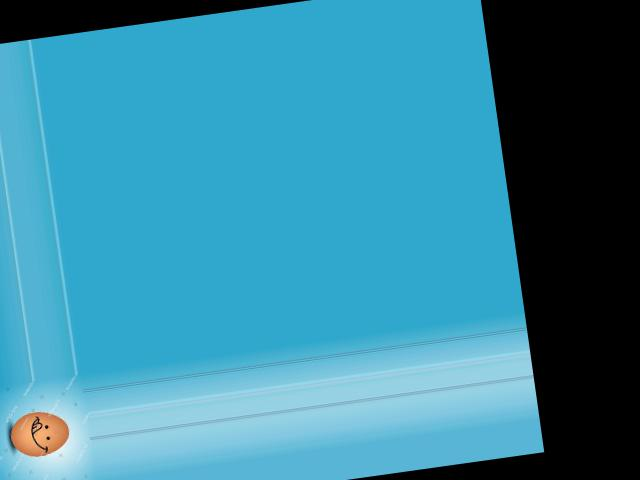egg: (8, 407, 71, 459)
